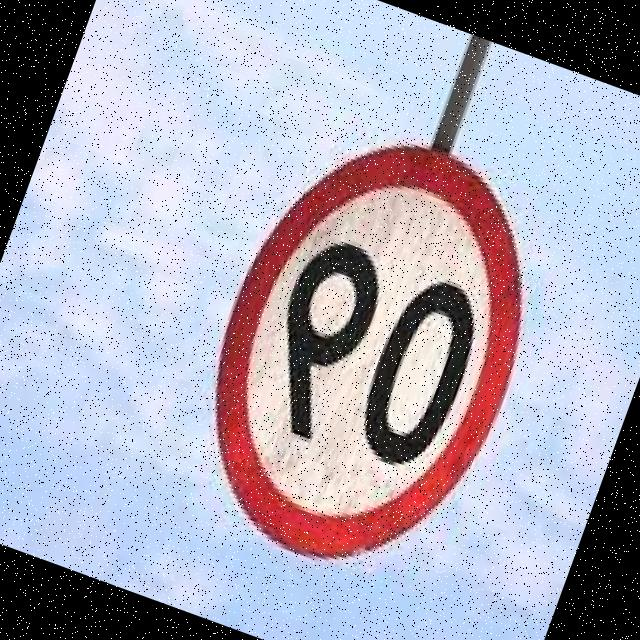speed_limit_60: (148, 96, 582, 618)
